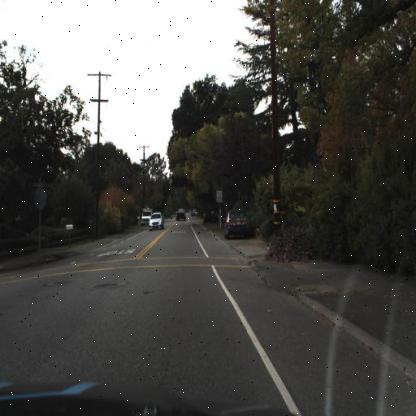car: (223, 208, 253, 239), (148, 210, 165, 233), (140, 206, 154, 226), (175, 206, 187, 222)
